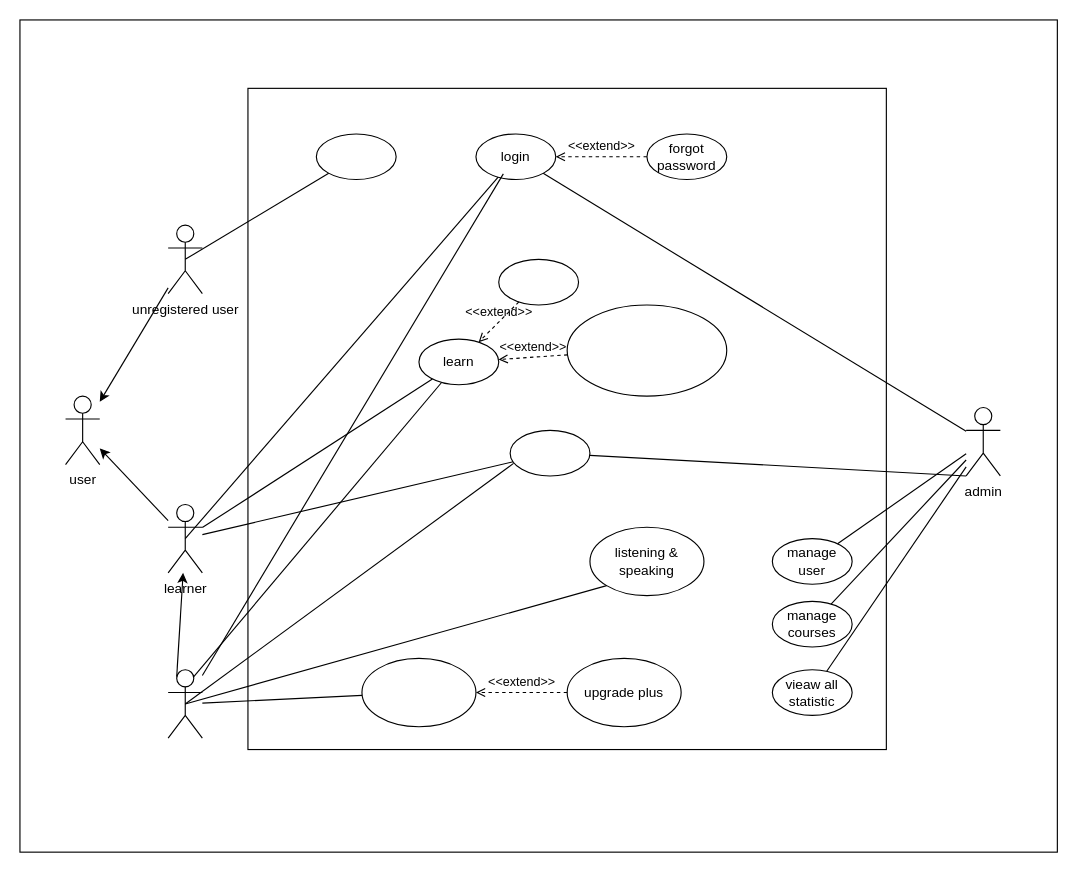
Some shapes in this 1077 by 872 pixel diagram are drawn without their labels. Each missing label, with the centre of its shape:
creat payment request: the point at 418,692
dictionary, minigames,vocabulary,...: the point at 646,350
log out: the point at 549,452
plus learner: the point at 184,703
reading & wrting: the point at 538,281
register: the point at 355,156
